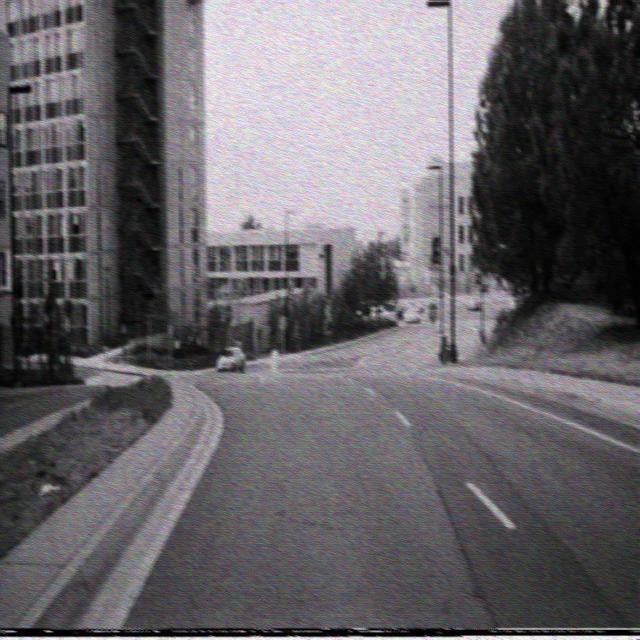stop: (428, 300, 439, 322)
